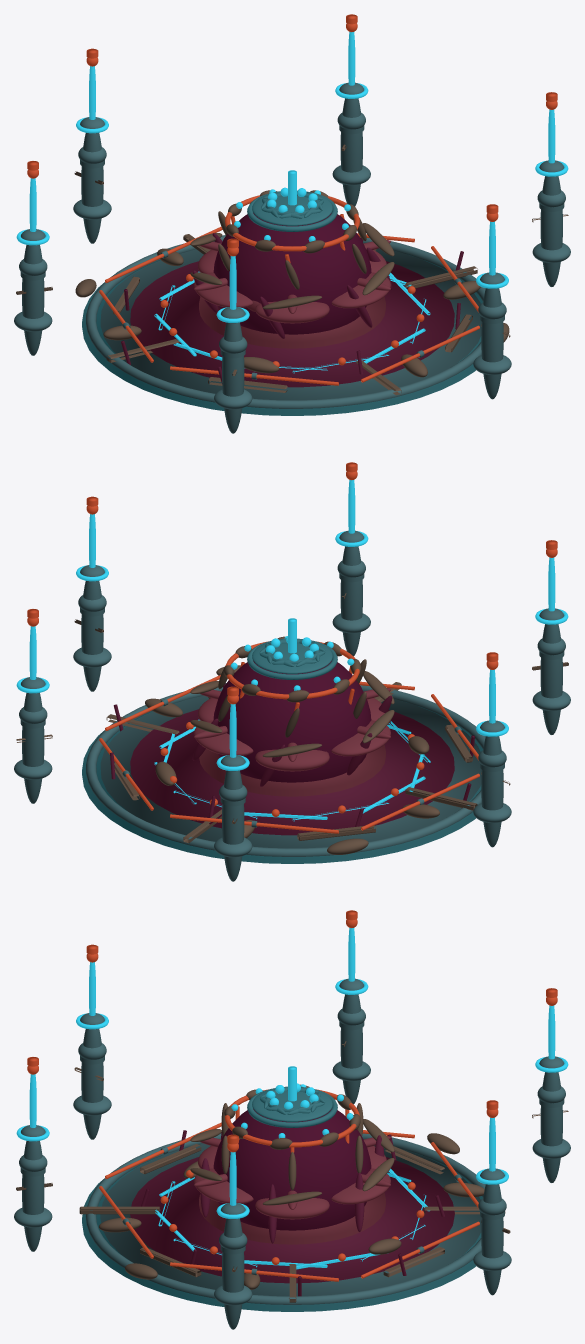
Rendered from root_cistern.gltf.
3 renders of one model, top to bottom at view 1: azimuth 30°, elevation 25°; view 2: azimuth 150°, elevation 25°; view 3: azimuth 270°, elevation 25°, orthographic.
Visible parts, largest first — view 1: RootCisternBasinWater, RootCisternCoreMass, RootCisternBasin, RootCisternBasinFoundationRim, RootCisternBasinFoundation, RootCisternCoreCollar, RootCisternPylon1, RootCisternPylon0, RootCisternPylon3, RootCisternPylon4, RootCisternPylon2, RootCisternPylon5 (+14 smaller); view 2: RootCisternBasinWater, RootCisternCoreMass, RootCisternBasin, RootCisternBasinFoundationRim, RootCisternBasinFoundation, RootCisternCoreCollar, RootCisternPylon3, RootCisternPylon5, RootCisternPylon2, RootCisternPylon0, RootCisternPylon4, RootCisternPylon1 (+15 smaller); view 3: RootCisternBasinWater, RootCisternCoreMass, RootCisternBasin, RootCisternBasinFoundationRim, RootCisternBasinFoundation, RootCisternCoreCollar, RootCisternPylon5, RootCisternPylon4, RootCisternPylon1, RootCisternPylon2, RootCisternPylon0, RootCisternPylon3 (+14 smaller).
Part boxes in pixels (x1,y1,x2,y2): RootCisternBasinWater: [130, 261, 454, 387]; RootCisternCoreMass: [213, 213, 371, 334]; RootCisternBasin: [100, 248, 481, 400]; RootCisternBasinFoundationRim: [86, 235, 485, 408]; RootCisternBasinFoundation: [82, 254, 482, 415]; RootCisternCoreCollar: [199, 297, 385, 348]; RootCisternPylon1: [481, 288, 503, 399]; RootCisternPylon0: [540, 176, 562, 286]; RootCisternPylon3: [22, 245, 44, 355]; RootCisternPylon4: [81, 133, 103, 243]; RootCisternPylon2: [222, 322, 244, 433]; RootCisternPylon5: [340, 98, 362, 206]; RootCisternBasinWater: [130, 709, 454, 835]; RootCisternCoreMass: [213, 661, 371, 782]; RootCisternBasin: [100, 695, 481, 848]; RootCisternBasinFoundationRim: [86, 683, 485, 856]; RootCisternBasinFoundation: [82, 702, 482, 863]; RootCisternCoreCollar: [199, 745, 385, 796]; RootCisternPylon3: [481, 736, 503, 847]; RootCisternPylon5: [22, 693, 44, 803]; RootCisternPylon2: [540, 624, 562, 734]; RootCisternPylon0: [81, 581, 103, 691]; RootCisternPylon4: [222, 770, 244, 881]; RootCisternPylon1: [340, 546, 362, 656]; RootCisternBasinWater: [130, 1157, 454, 1283]; RootCisternCoreMass: [213, 1109, 371, 1230]; RootCisternBasin: [100, 1143, 481, 1296]; RootCisternBasinFoundationRim: [85, 1133, 485, 1304]; RootCisternBasinFoundation: [82, 1152, 482, 1311]; RootCisternCoreCollar: [199, 1193, 385, 1244]; RootCisternPylon5: [481, 1184, 503, 1295]; RootCisternPylon4: [540, 1072, 562, 1182]; RootCisternPylon1: [22, 1141, 44, 1251]; RootCisternPylon2: [81, 1029, 103, 1139]; RootCisternPylon0: [222, 1218, 244, 1329]; RootCisternPylon3: [340, 994, 362, 1104].
Bounding box in the file's own units: 17.2 × 7.34 × 16.81.
